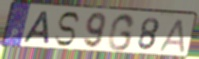8: (137, 17, 161, 51)
9: (81, 12, 108, 50)
A: (21, 10, 51, 46), (158, 18, 186, 54)
G: (106, 12, 137, 53)
S: (53, 11, 82, 48)
